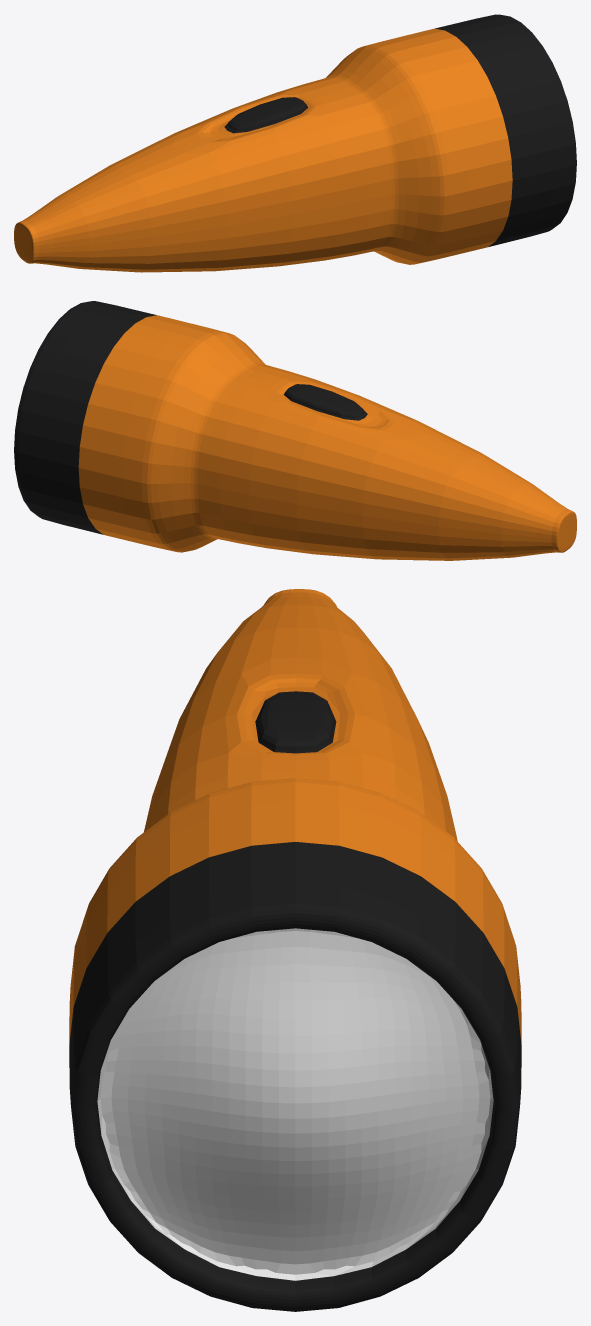
File: TORCH FILE.fbx
The picture shows the model from 3 angles, top to bottom: view 1: azimuth 30°, elevation 25°; view 2: azimuth 150°, elevation 25°; view 3: azimuth 270°, elevation 25°; orthographic projection. The views are drawn at different scales.
Visible parts, largest first — view 1: TORCH; view 2: TORCH; view 3: TORCH.
Boxes of the visible parts, bbox=[...] form: TORCH: bbox=[14, 14, 576, 272]; TORCH: bbox=[14, 301, 576, 560]; TORCH: bbox=[69, 589, 521, 1311].
Size of the model in its own units: 872 by 338 by 338.
